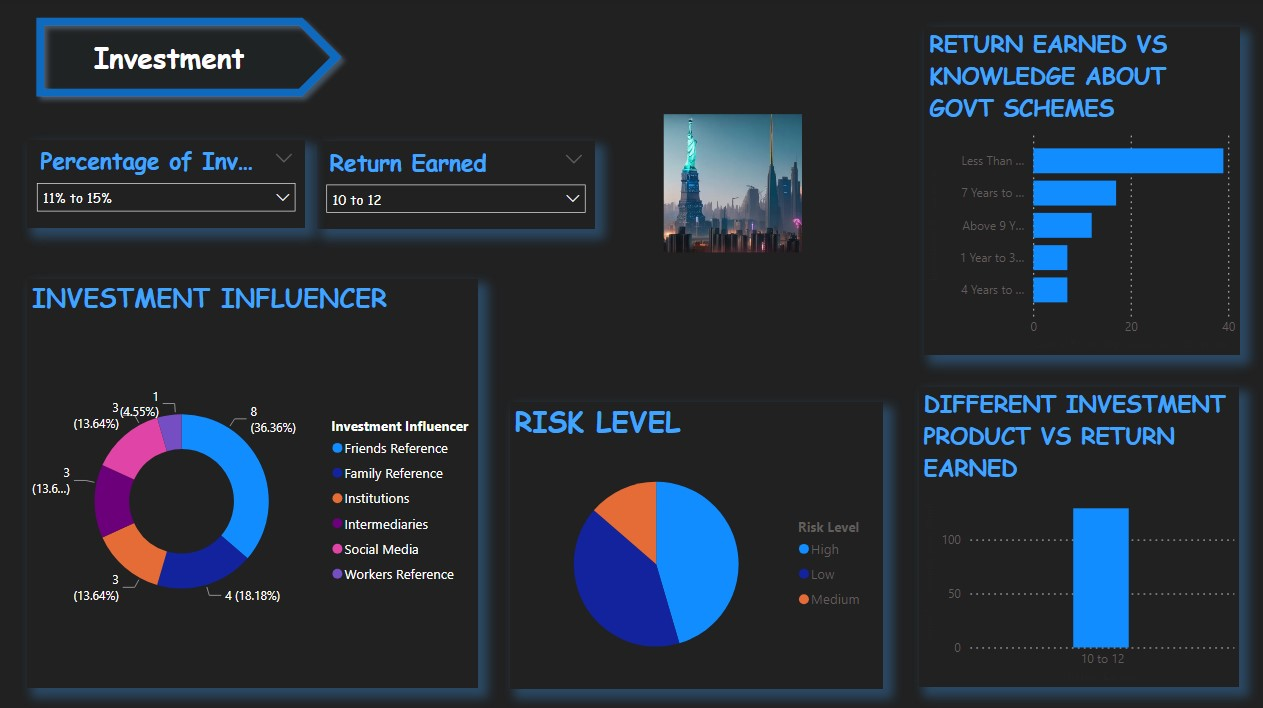

What the dashboard file says about the page in this screenshot:
{"tool":"powerbi","page":{"name":"Page 2","canvas":[1280,720],"ordinal":1},"visuals":[{"type":"slicer","fields":{"Values":["Data.Percentage of Investment"]},"box":[30.1,143.2,279.3,88.8],"z":0},{"type":"clusteredColumnChart","title":"DIFFERENT INVESTMENT PRODUCT VS RETURN EARNED","fields":{"Y":["Sum(Data.Knowledge level about different investment product)"],"Category":["Data.Return Earned"]},"box":[926.1,392.7,322.3,301.1],"z":1000},{"type":"pieChart","title":"RISK LEVEL","fields":{"Y":["CountNonNull(Data.Risk Level)"],"Category":["Data.Risk Level"]},"box":[515.4,405.8,374.7,288],"z":2000},{"type":"barChart","title":"RETURN EARNED VS KNOWLEDGE ABOUT GOVT SCHEMES ","fields":{"Category":["Data.Investment Experience"],"Y":["Sum(Data.Knowledge about Govt. Schemes)"]},"box":[931,31.1,317.4,328.9],"z":3000},{"type":"donutChart","title":"INVESTMENT INFLUENCER","fields":{"Category":["Data.Investment Influencer"],"Y":["CountNonNull(Data.Investment Influencer)"]},"box":[30.1,283.6,452.5,411],"z":4000},{"type":"image","box":[513.8,112.9,451.6,148.9],"z":5000},{"type":"shape","box":[30,11.2,325,97.5],"z":6000},{"type":"slicer","fields":{"Values":["Data.Return Earned"]},"box":[320.7,144,279.8,88.4],"z":7000}]}

Visuals, with their boxes in screenshot pixels (x1, y1, x2, y2), scaled from the page's 1280x720 canvas onto the 1263x708 screenshot:
slicer - Data.Percentage of Investment: Rect(30, 141, 305, 228)
"DIFFERENT INVESTMENT PRODUCT VS RETURN EARNED" clusteredColumnChart: Rect(914, 386, 1232, 682)
"RISK LEVEL" pieChart: Rect(509, 399, 878, 682)
"RETURN EARNED VS KNOWLEDGE ABOUT GOVT SCHEMES " barChart: Rect(919, 31, 1232, 354)
"INVESTMENT INFLUENCER" donutChart: Rect(30, 279, 476, 683)
image: Rect(507, 111, 953, 257)
shape: Rect(30, 11, 350, 107)
slicer - Data.Return Earned: Rect(316, 142, 593, 229)
